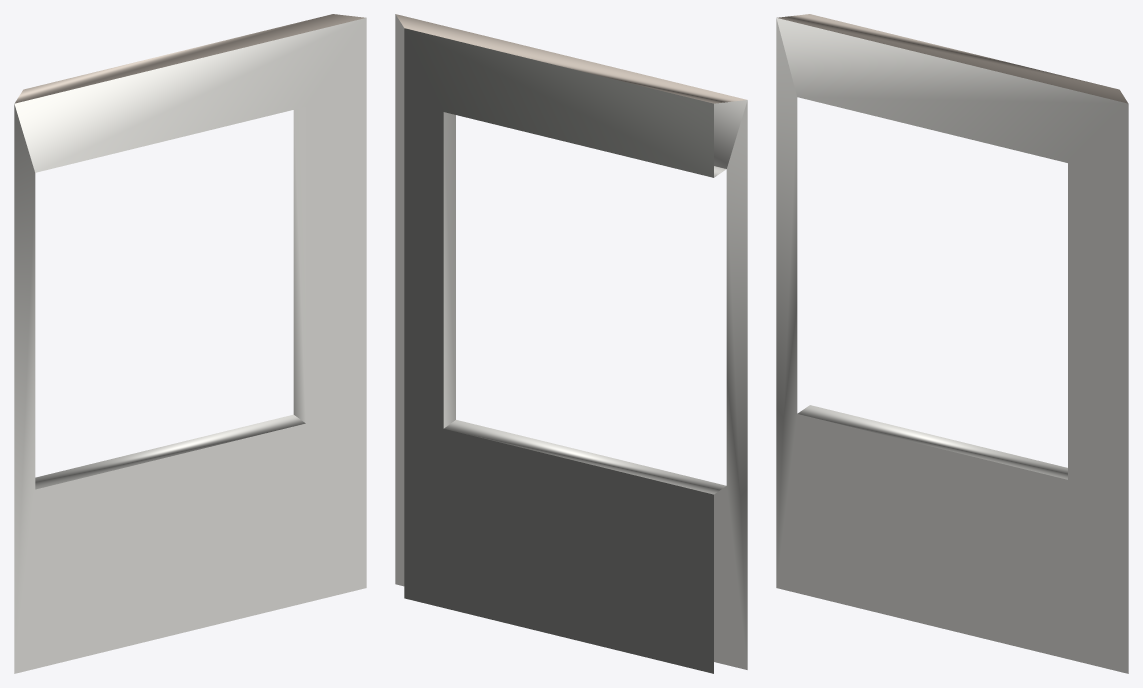
Rendered from Wall5.obj.
The picture shows the model from 3 angles, left to right: view 1: azimuth 30°, elevation 25°; view 2: azimuth 150°, elevation 25°; view 3: azimuth 330°, elevation 25°; orthographic projection.
Visible parts, largest first — view 1: wall_5; view 2: wall_5; view 3: wall_5.
Boxes of the visible parts, x1,y1,x2,y2 form: wall_5: (14,14,366,673); wall_5: (395,14,747,673); wall_5: (776,14,1128,673).
Size of the model in its own units: 1.66 by 2.57 by 0.1.
